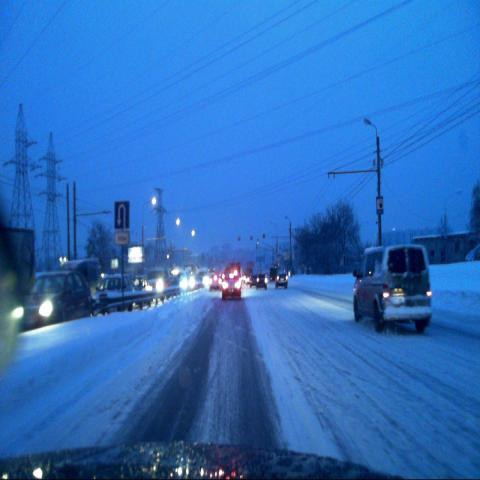6_3_1: (114, 199, 130, 228)
8_1_1: (114, 229, 130, 244)
